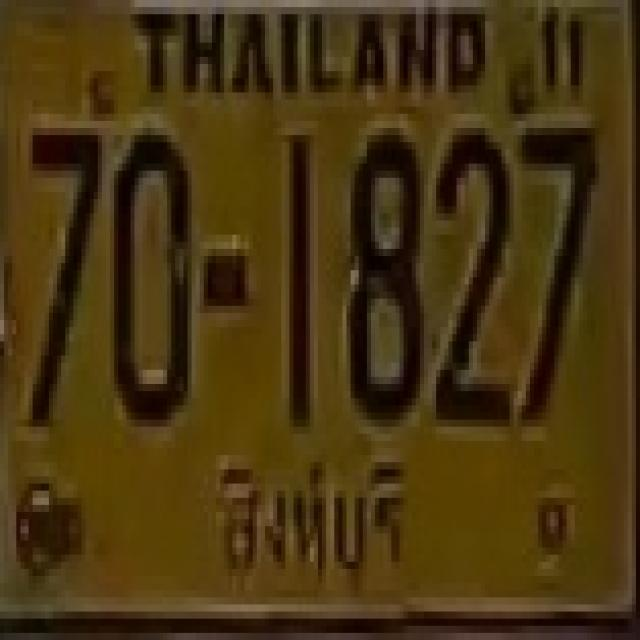0: (110, 128, 188, 420)
1: (287, 132, 308, 423)
2: (434, 128, 508, 420)
7: (518, 121, 595, 419), (28, 121, 98, 419)
8: (346, 128, 420, 412)
SBR: (206, 446, 424, 596)
